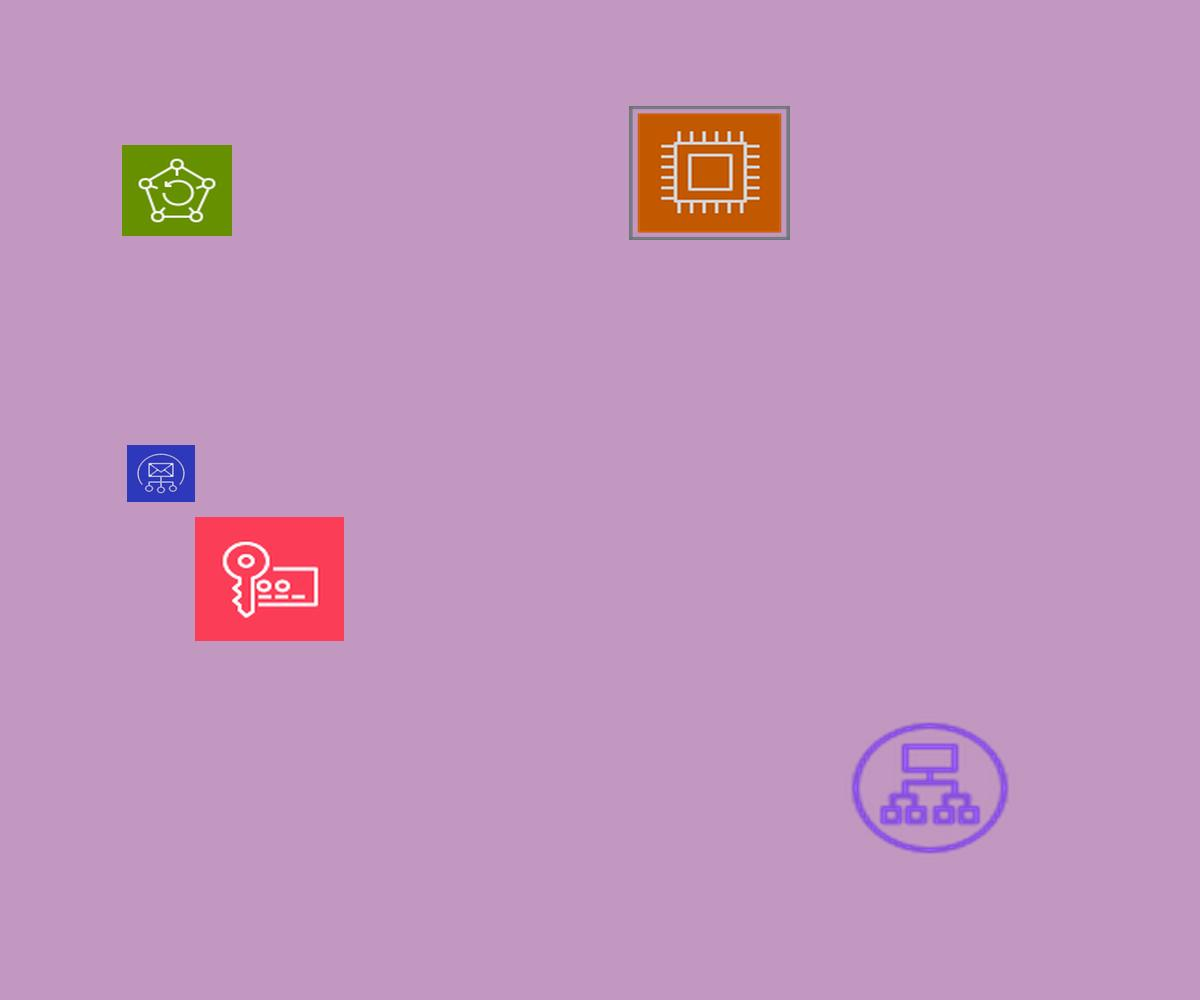AWS-Backup: (122, 145, 232, 236)
AWS-Category_Compute: (629, 106, 790, 240)
AWS-Key-Management-Service: (195, 517, 344, 641)
AWS-Res_Elastic-Load-Balancing_Application-Load-Balancer: (845, 717, 1015, 859)
AWS-Simple-Email-Service: (127, 445, 195, 502)
